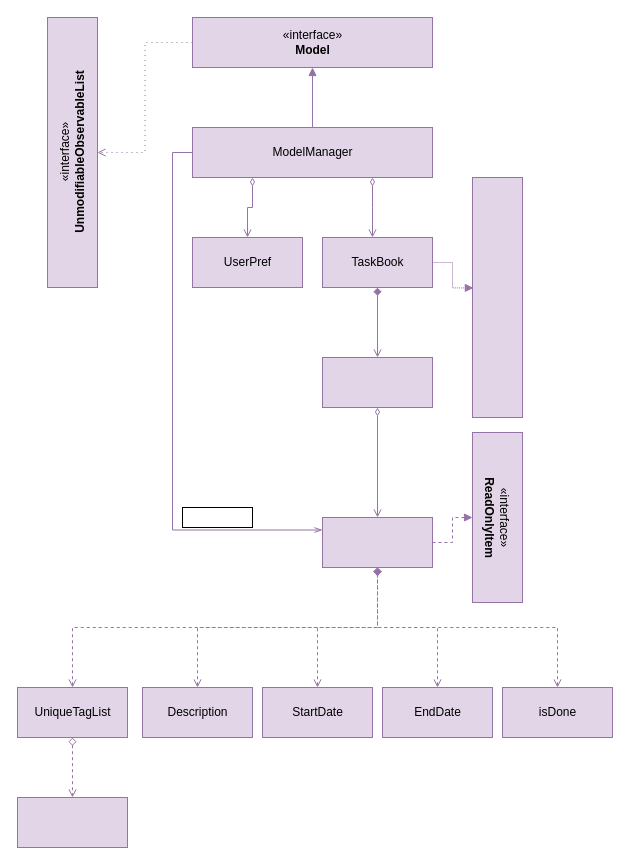
Some shapes in this 630 by 865 pixel diagram are drawn without their labels. Each missing label, with the centre of its shape:
filtered list: point (217, 517)
Item: point (377, 542)
Tag: point (72, 822)
UniqueItemList: point (377, 382)
«interface» ReadOnlyTaskBook: point (497, 297)
